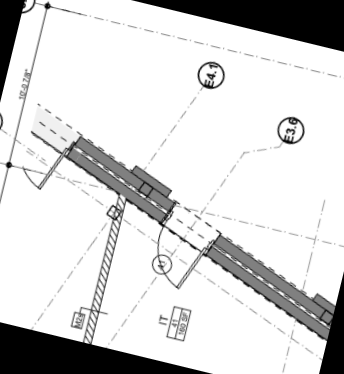door: (137, 217, 212, 298)
wall: (81, 193, 130, 344)
